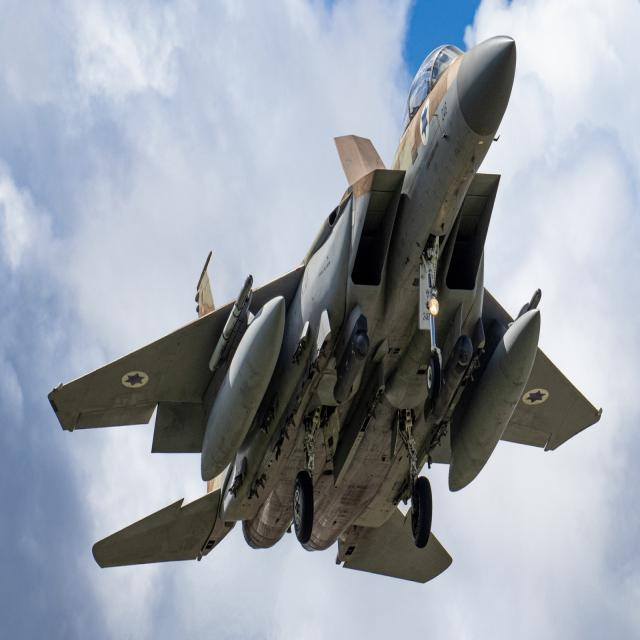F15: (10, 16, 617, 640)
